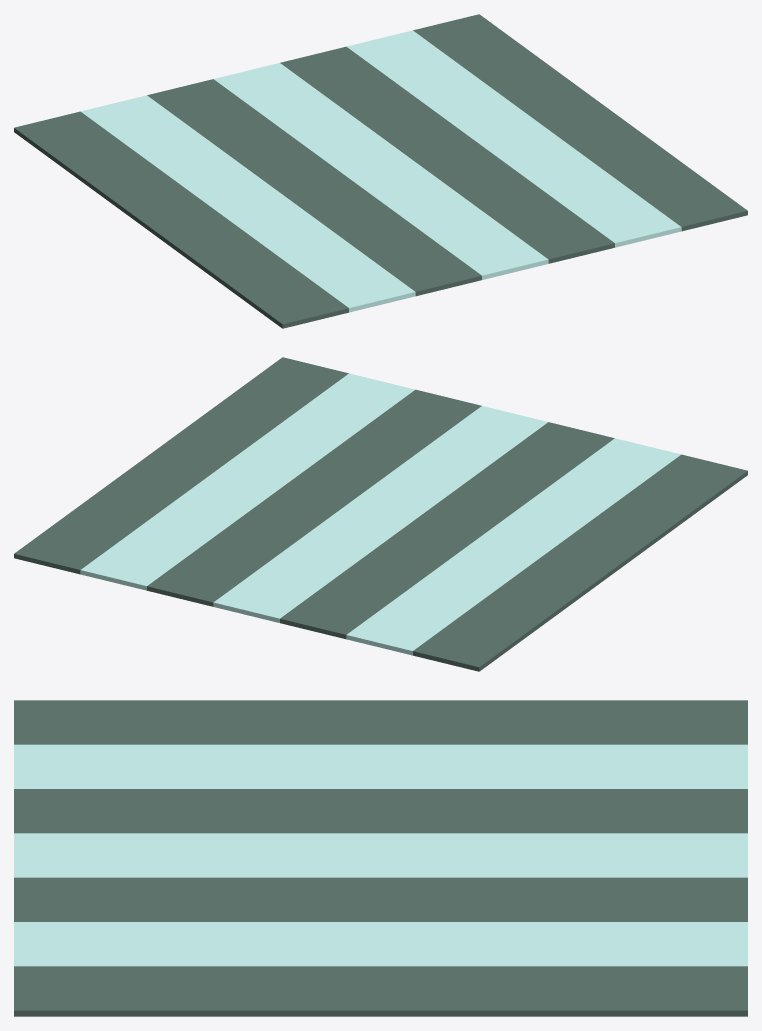
File: carpet-stripe.glb
3 views of the same model, one above another, from view 1: azimuth 30°, elevation 25°; view 2: azimuth 150°, elevation 25°; view 3: azimuth 270°, elevation 25° (orthographic). The views are drawn at different scales.
Visible parts, largest first — view 1: Carpet; view 2: Carpet; view 3: Carpet.
Part boxes in pixels (x1,y1,x2,y2): Carpet: (14, 14, 747, 328); Carpet: (14, 357, 747, 671); Carpet: (14, 700, 747, 1016).
Size of the model in its own units: 2.4 by 0.022 by 2.4.
